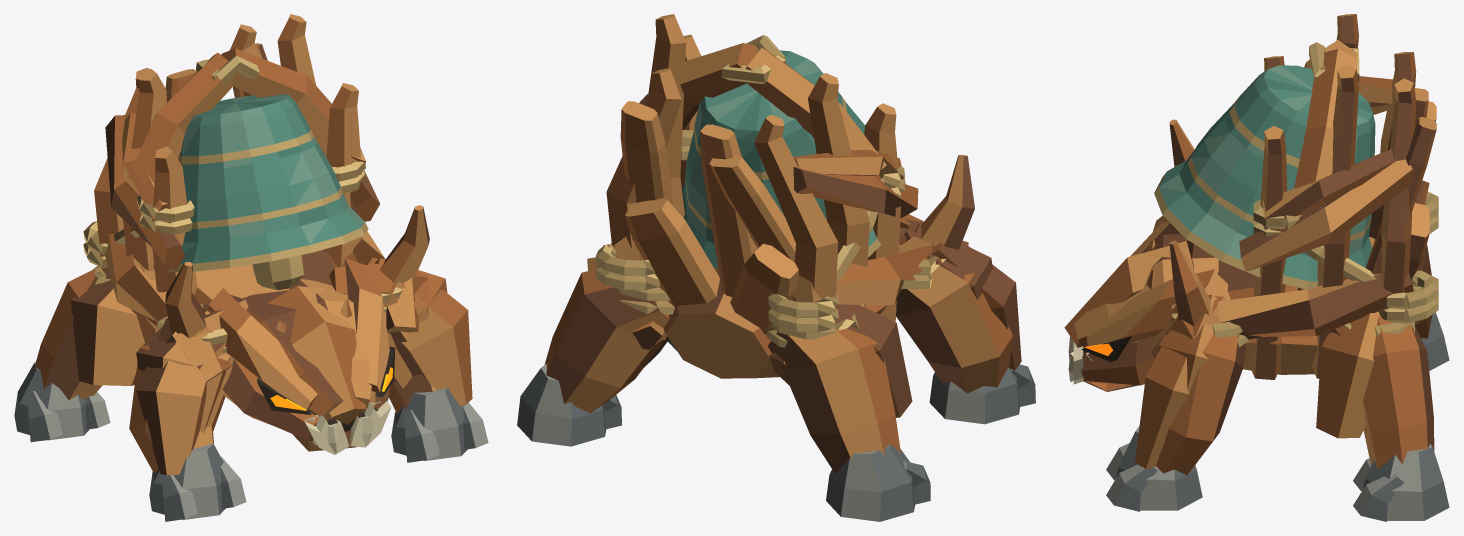
File: bellback-complete-character-pass.glb
3 renders of one model, left to right at view 1: azimuth 30°, elevation 25°; view 2: azimuth 150°, elevation 25°; view 3: azimuth 270°, elevation 25°, orthographic. The views are drawn at different scales.
Parts seen in each view (by area): view 1: Hollow cast bell, Left fore outer timber shield, Left hind shoulder cap, Pointed central face keel, Right fore outer timber shield, Solid timber cranium, Shaped orbital brow timber, Arch left, Left hind timber leg, Arch right, Shaped orbital brow timber.001, Middle broken side strake -1 (+37 smaller); view 2: Left hind timber leg, Right hind timber leg, Left fore timber leg, Hollow cast bell, Barrel timber hull, Broken ship rib -1 2, Stern fan broad plank 1, Left hind stone foot, Tall stern plank, Broken ship rib -1 1, Right hind stone foot, Lower broken side strake -1 (+24 smaller); view 3: Hollow cast bell, Right hind timber leg, Lower broken side strake 1, Middle broken side strake 1, Right fore timber leg, Right hind shoulder cap, Right fore outer timber shield, Broken ship rib 1 2, Broken ship rib 1 1, Broken ship rib 1 0, Right hind stone foot, Arch right (+29 smaller).
Boxes of the visible parts, bbox=[...] form: Hollow cast bell: bbox=[153, 94, 368, 271]; Left fore outer timber shield: bbox=[136, 318, 206, 475]; Left hind shoulder cap: bbox=[70, 267, 144, 385]; Pointed central face keel: bbox=[267, 286, 365, 424]; Right fore outer timber shield: bbox=[396, 270, 472, 406]; Solid timber cranium: bbox=[242, 279, 371, 420]; Shaped orbital brow timber: bbox=[208, 288, 317, 410]; Arch left: bbox=[128, 53, 234, 184]; Left hind timber leg: bbox=[33, 267, 102, 400]; Arch right: bbox=[221, 48, 331, 154]; Shaped orbital brow timber.001: bbox=[345, 258, 389, 392]; Middle broken side strake -1: bbox=[105, 115, 184, 270]; Left hind timber leg: bbox=[768, 323, 900, 474]; Right hind timber leg: bbox=[544, 269, 669, 413]; Left fore timber leg: bbox=[896, 264, 1012, 393]; Hollow cast bell: bbox=[682, 50, 905, 268]; Barrel timber hull: bbox=[663, 268, 887, 378]; Broken ship rib -1 2: bbox=[754, 114, 838, 321]; Stern fan broad plank 1: bbox=[625, 198, 719, 307]; Left hind stone foot: bbox=[826, 444, 915, 521]; Tall stern plank: bbox=[700, 124, 757, 296]; Broken ship rib -1 1: bbox=[808, 73, 869, 307]; Right hind stone foot: bbox=[517, 363, 606, 446]; Lower broken side strake -1: bbox=[793, 236, 933, 304]; Hollow cast bell: bbox=[1154, 65, 1375, 289]; Right hind timber leg: bbox=[1363, 316, 1434, 468]; Lower broken side strake 1: bbox=[1217, 271, 1413, 336]; Middle broken side strake 1: bbox=[1239, 159, 1414, 271]; Right fore timber leg: bbox=[1156, 333, 1245, 475]; Right hind shoulder cap: bbox=[1316, 311, 1379, 438]; Right fore outer timber shield: bbox=[1135, 312, 1220, 468]; Broken ship rib 1 2: bbox=[1381, 78, 1416, 320]; Broken ship rib 1 1: bbox=[1311, 64, 1358, 378]; Broken ship rib 1 0: bbox=[1249, 126, 1287, 379]; Right hind stone foot: bbox=[1363, 444, 1449, 520]; Arch right: bbox=[1294, 49, 1357, 204].
Size of the model in its own units: 3.71 by 3.72 by 3.25.
